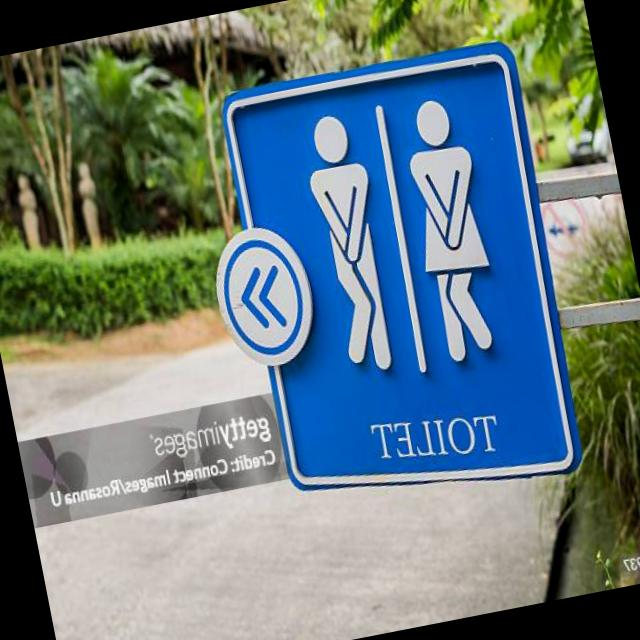toilet_icon: (285, 76, 520, 406)
